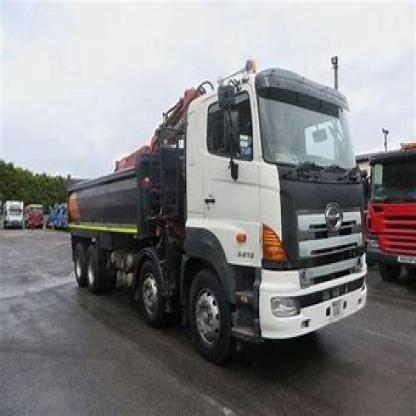dump_truck: (52, 61, 372, 360)
